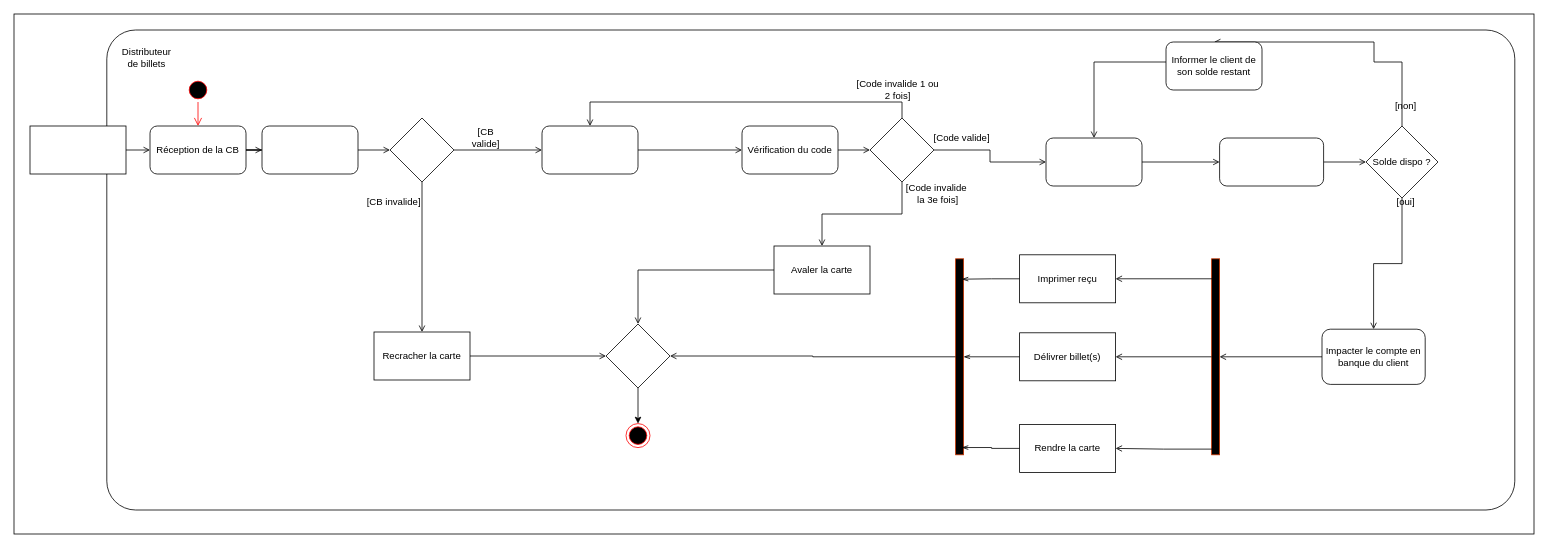
This 1548x548 diagram has some shape labels left out. Each missing label, with the box of its shape:
Introduction de la CB: (29, 125, 126, 174)
Invite à saisir le code: (541, 125, 638, 174)
Invite à saisir le montant désiré: (1045, 137, 1142, 186)
Vérification de la validité de la CB: (261, 125, 358, 174)
Vérification du montant sur le compte: (1219, 137, 1324, 186)
